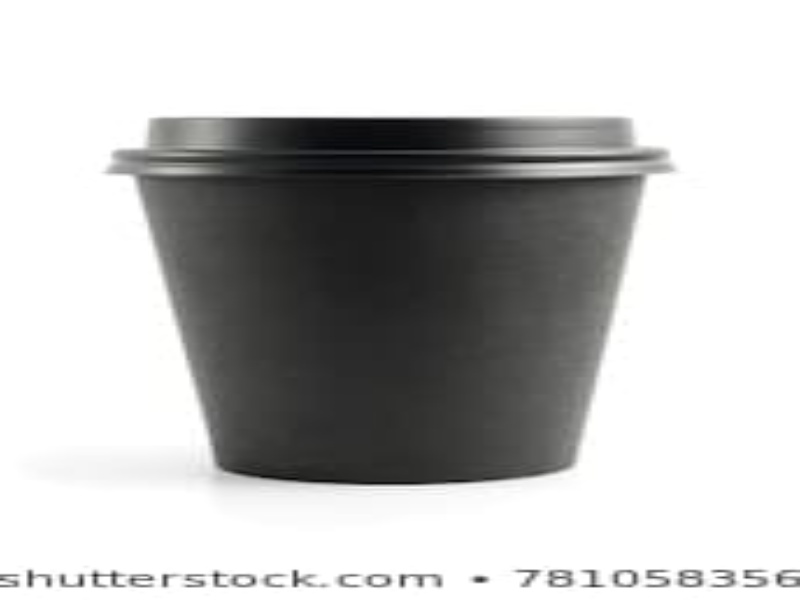coffee-lid: (102, 117, 679, 188)
